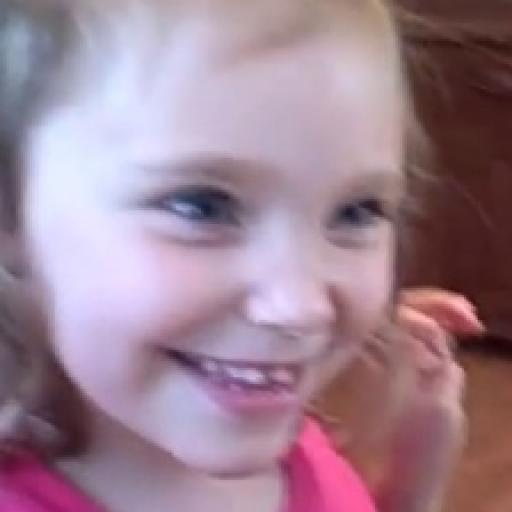Autism: (27, 14, 482, 492)
